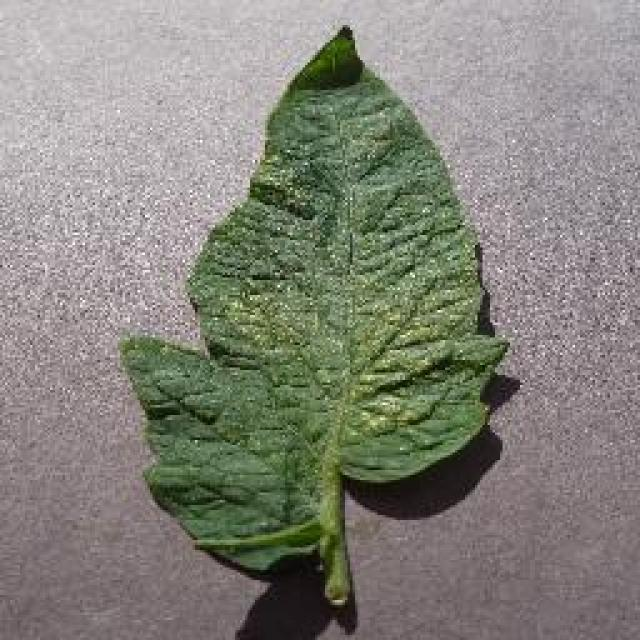Tom_Spider_mites Two-spotted_spider_mite: (232, 160, 448, 425)
